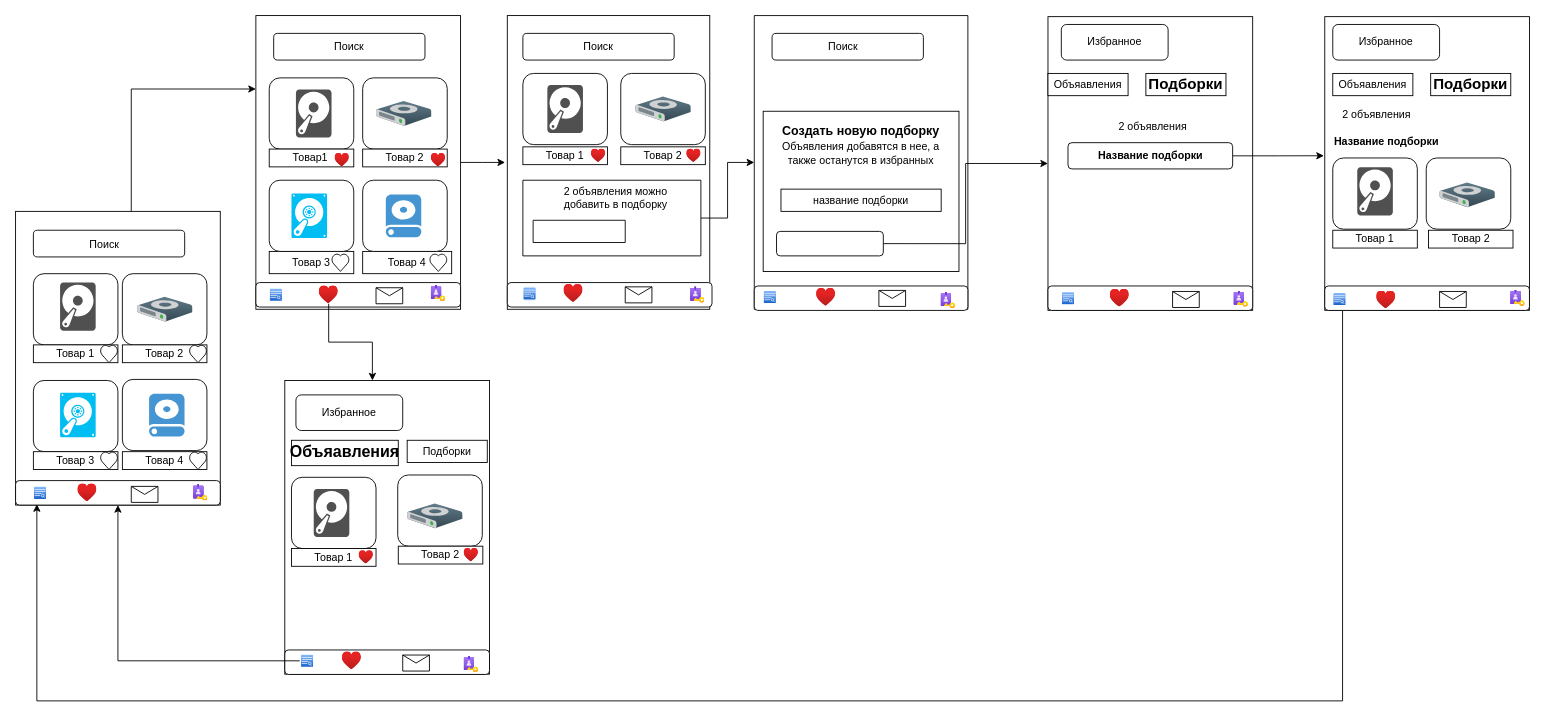
Image size: 1545x724. Some labels were removed from this diagram. The box of each missing label's shape, as (x1, y1, x2, y2) in pixels:
Добавить: (532, 219, 625, 243)
Создать: (776, 231, 883, 256)
